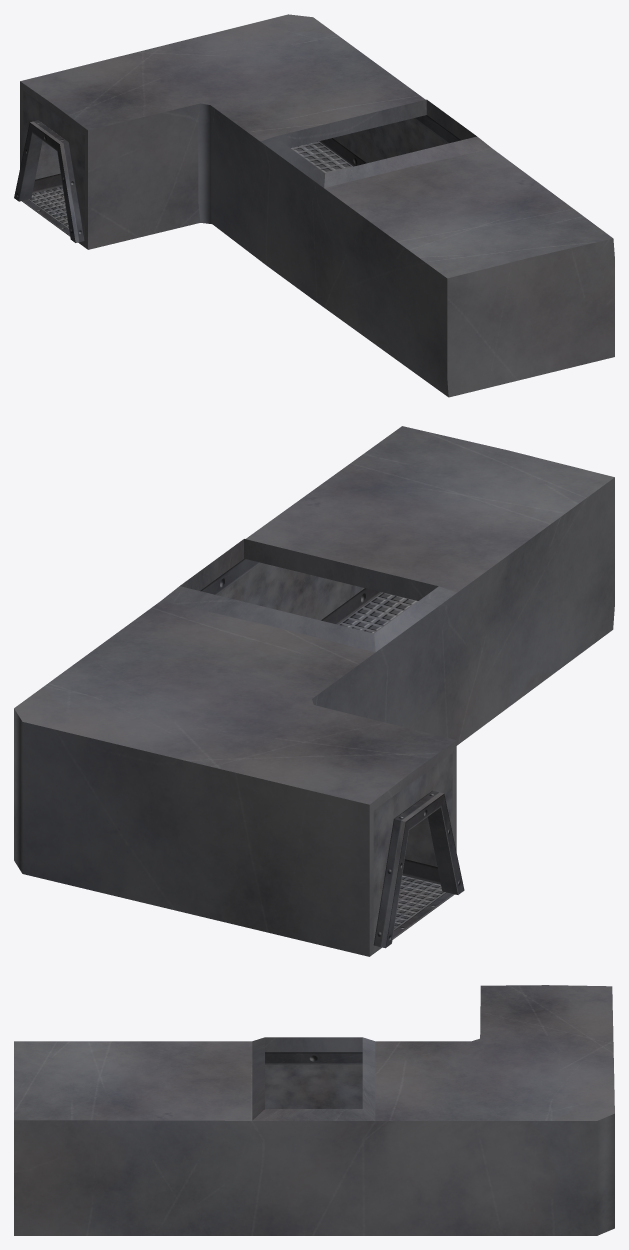
The model's file is Incinerator_Wing_Door.fbx.
3 views of the same model, one above another, from view 1: azimuth 30°, elevation 25°; view 2: azimuth 150°, elevation 25°; view 3: azimuth 270°, elevation 25° (orthographic). The views are drawn at different scales.
Visible parts, largest first — view 1: Incinerator_Wing_Door; view 2: Incinerator_Wing_Door; view 3: Incinerator_Wing_Door.
Part boxes in pixels (x1,y1,x2,y2): Incinerator_Wing_Door: [14, 14, 614, 397]; Incinerator_Wing_Door: [14, 426, 614, 956]; Incinerator_Wing_Door: [14, 985, 614, 1235].
Size of the model in its own units: 1.3 by 0.5354 by 2.37.
